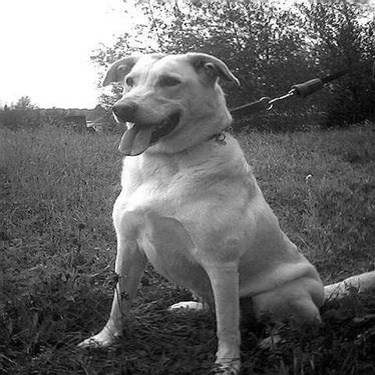dog: (64, 42, 331, 371)
